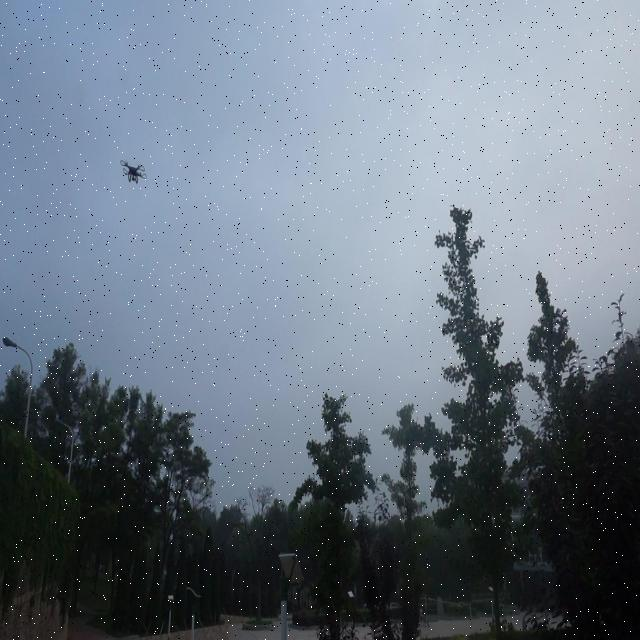UAV: (120, 160, 147, 184)
